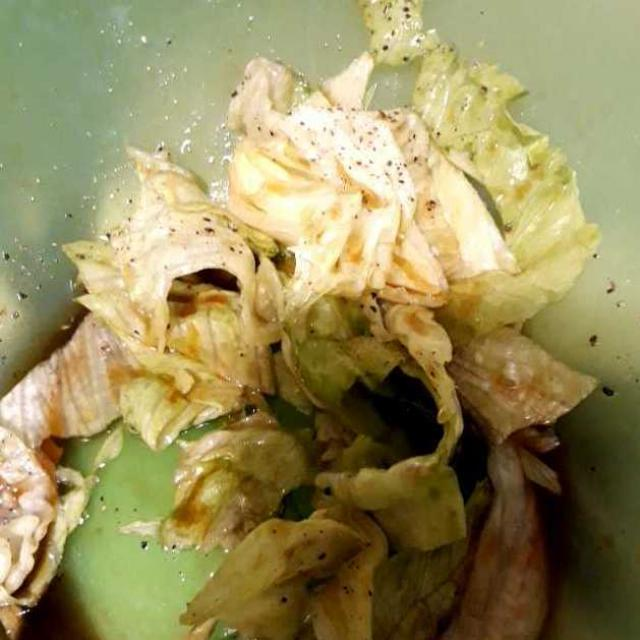salad-leaf-salad-green: (16, 16, 600, 618)
